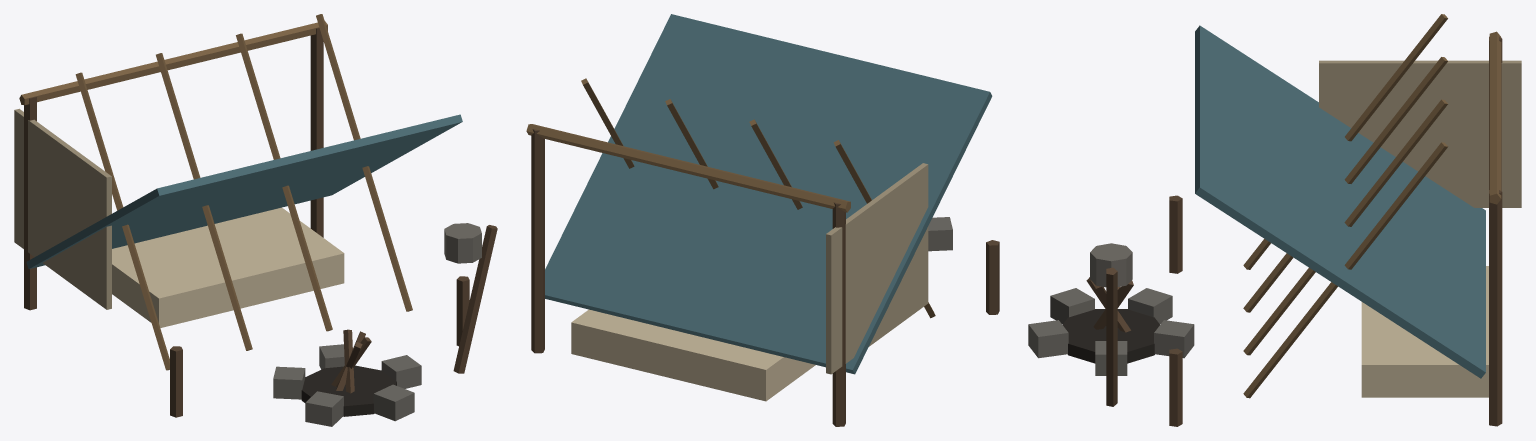
File: S_LeanTo.glb
The picture shows the model from 3 angles, left to right: view 1: azimuth 30°, elevation 25°; view 2: azimuth 150°, elevation 25°; view 3: azimuth 270°, elevation 25°; orthographic projection. The views are drawn at different scales.
Parts seen in each view (by area): view 1: S_LeanTo; view 2: S_LeanTo; view 3: S_LeanTo.
Boxes of the visible parts, bbox=[...] form: S_LeanTo: bbox=[14, 14, 497, 426]; S_LeanTo: bbox=[526, 14, 999, 426]; S_LeanTo: bbox=[1028, 14, 1521, 426].
Size of the model in its own units: 3.6 by 2.8 by 4.63.
